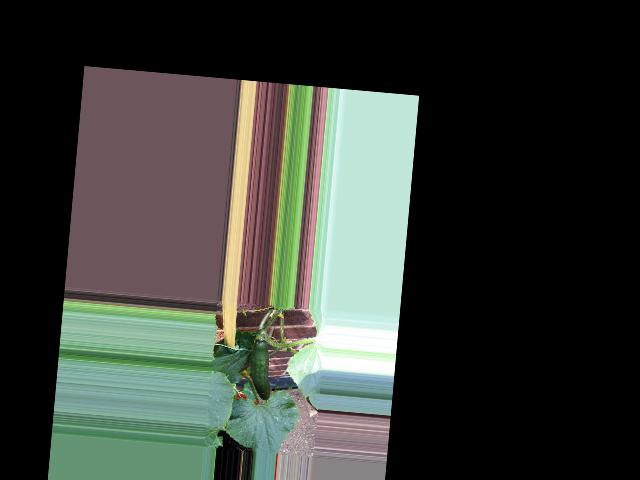cucumber: (247, 338, 275, 400)
